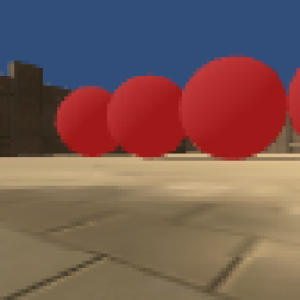badGoal: (177, 55, 285, 161), (107, 74, 191, 160), (54, 83, 121, 157), (287, 63, 300, 139)
